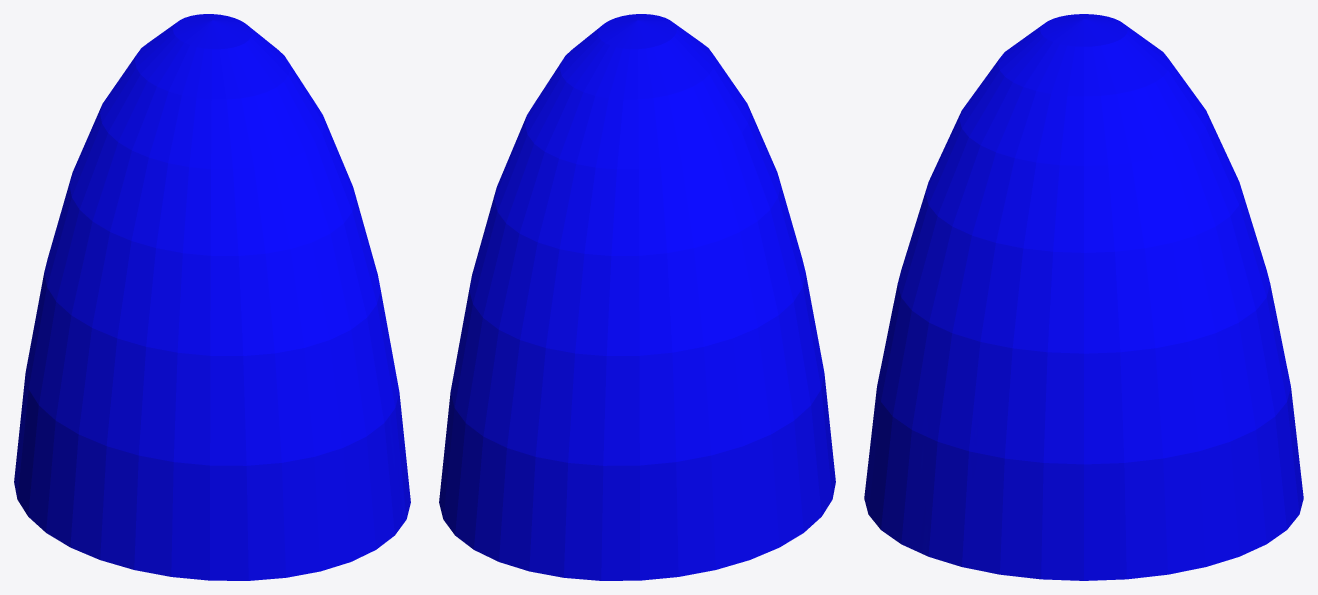
The model's file is CuerpoReyHelado_obj.obj.
3 views of the same model, side by side, from view 1: azimuth 30°, elevation 25°; view 2: azimuth 150°, elevation 25°; view 3: azimuth 270°, elevation 25° (orthographic).
Parts seen in each view (by area): view 1: Cuerpo; view 2: Cuerpo; view 3: Cuerpo.
Part boxes in pixels (x1,y1,x2,y2): Cuerpo: (14,14,410,580); Cuerpo: (439,14,835,580); Cuerpo: (864,14,1303,580).
Size of the model in its own units: 11.87 by 16.09 by 13.37.
